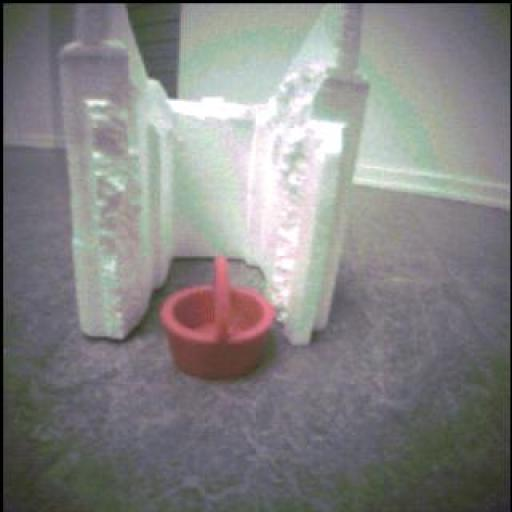Bucket: (161, 257, 276, 380)
